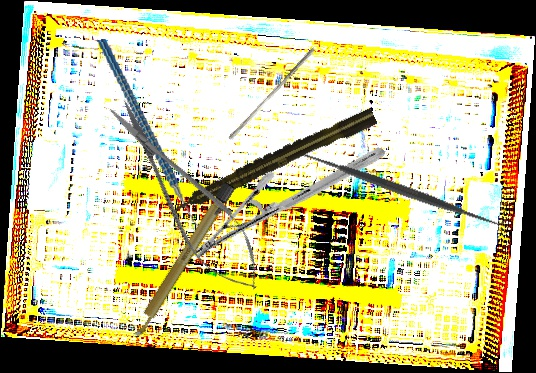Chopper: (96, 27, 214, 243)
Handpiece: (166, 106, 379, 220)
Micro Scissor: (93, 86, 279, 307)
Needle Holder: (192, 93, 386, 313)
Pusher: (227, 43, 317, 144)
Scalpel Handle: (127, 180, 237, 342)
Spatula Surgical: (290, 139, 509, 240)
